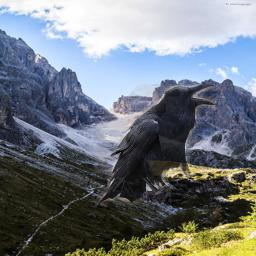Crow: (94, 84, 215, 209)
